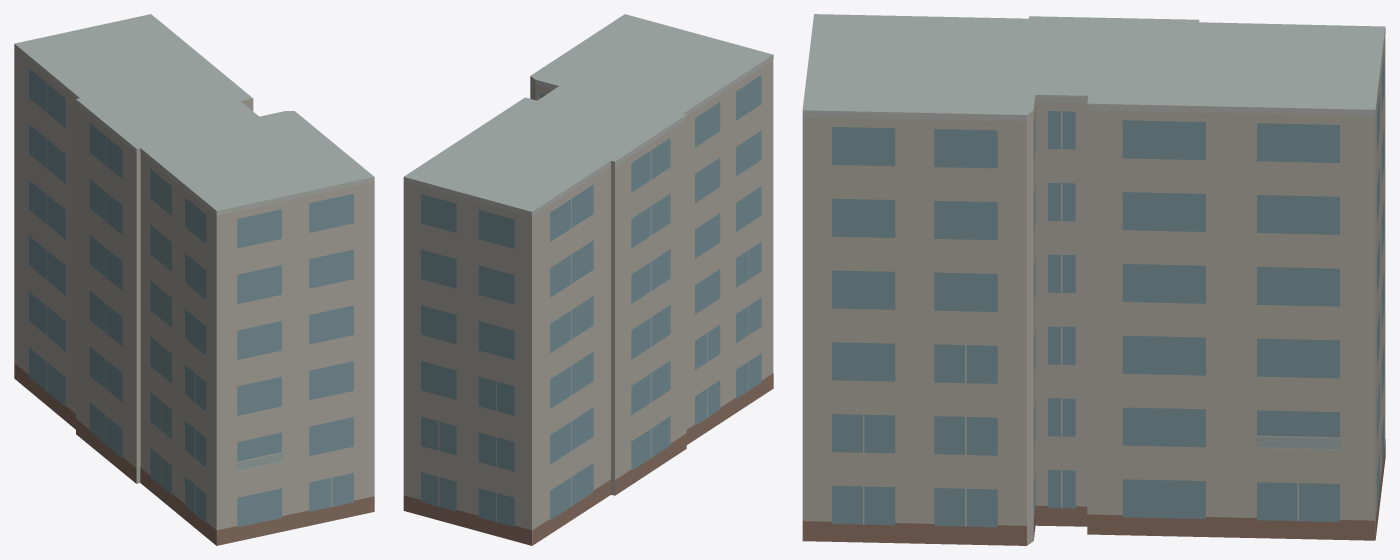
Rendered from survey-upis-32635681.glb.
3 views of the same model, side by side, from view 1: azimuth 30°, elevation 25°; view 2: azimuth 150°, elevation 25°; view 3: azimuth 270°, elevation 25° (orthographic). The views are drawn at different scales.
Parts seen in each view (by area): view 1: survey-upis-32635681.tmp; view 2: survey-upis-32635681.tmp; view 3: survey-upis-32635681.tmp.
Boxes of the visible parts, x1,y1,x2,y2 form: survey-upis-32635681.tmp: (14, 14, 374, 545); survey-upis-32635681.tmp: (403, 14, 773, 545); survey-upis-32635681.tmp: (802, 14, 1385, 545).
Bounding box in the file's own units: 8.41 × 16.7 × 20.49.
